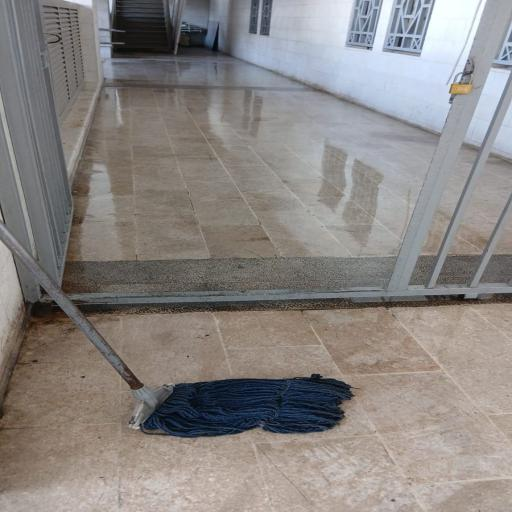wet_floor: (78, 49, 496, 257)
